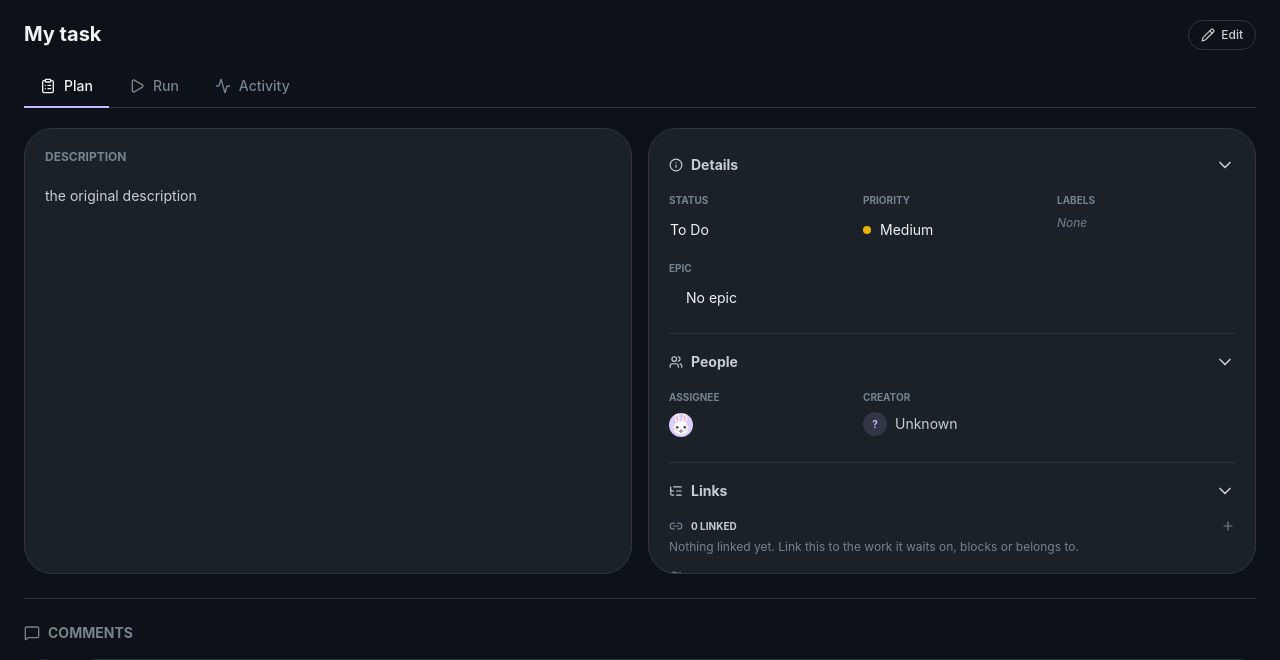
Test: TaskPage — full detail view bugs › hides "Run with agent" unless the assignee is a managed Agentira agent
Expected: the heading "My task" is shown, 24,20 -> 102,48
Click the button "Run" at [154, 87], box 113,66 -> 195,108
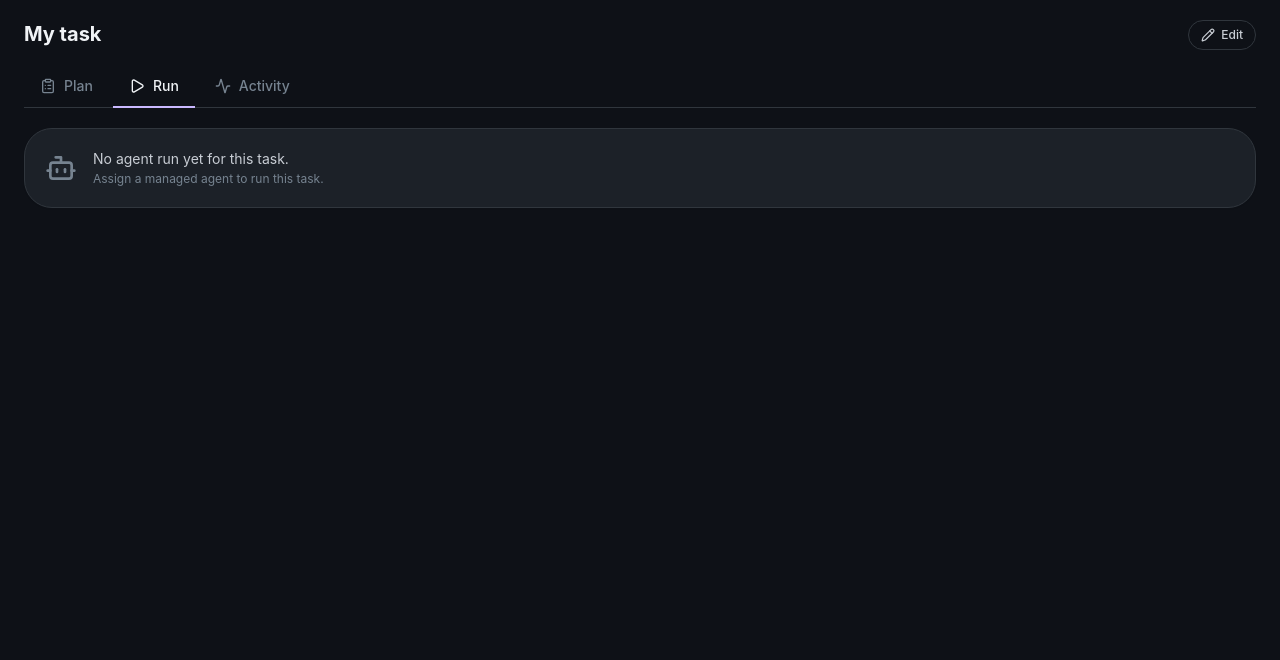
Now the text "No agent run yet for this task." is shown, box 93,150 -> 289,167
